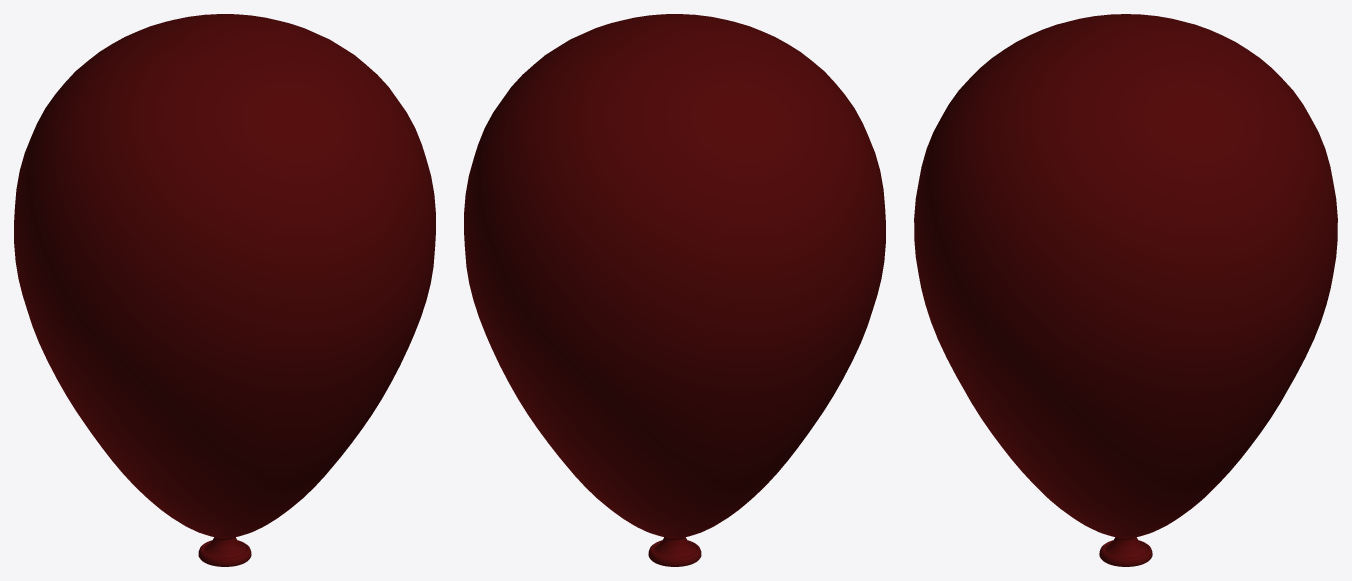
Rendered from balloon.fbx.
3 renders of one model, left to right at view 1: azimuth 30°, elevation 25°; view 2: azimuth 150°, elevation 25°; view 3: azimuth 270°, elevation 25°, orthographic.
Parts seen in each view (by area): view 1: Balloon; view 2: Balloon; view 3: Balloon.
Part boxes in pixels (x1,y1,x2,y2): Balloon: (14, 14, 435, 566); Balloon: (464, 14, 885, 566); Balloon: (914, 14, 1337, 566).
Size of the model in its own units: 1.62 by 2.2 by 1.63.
